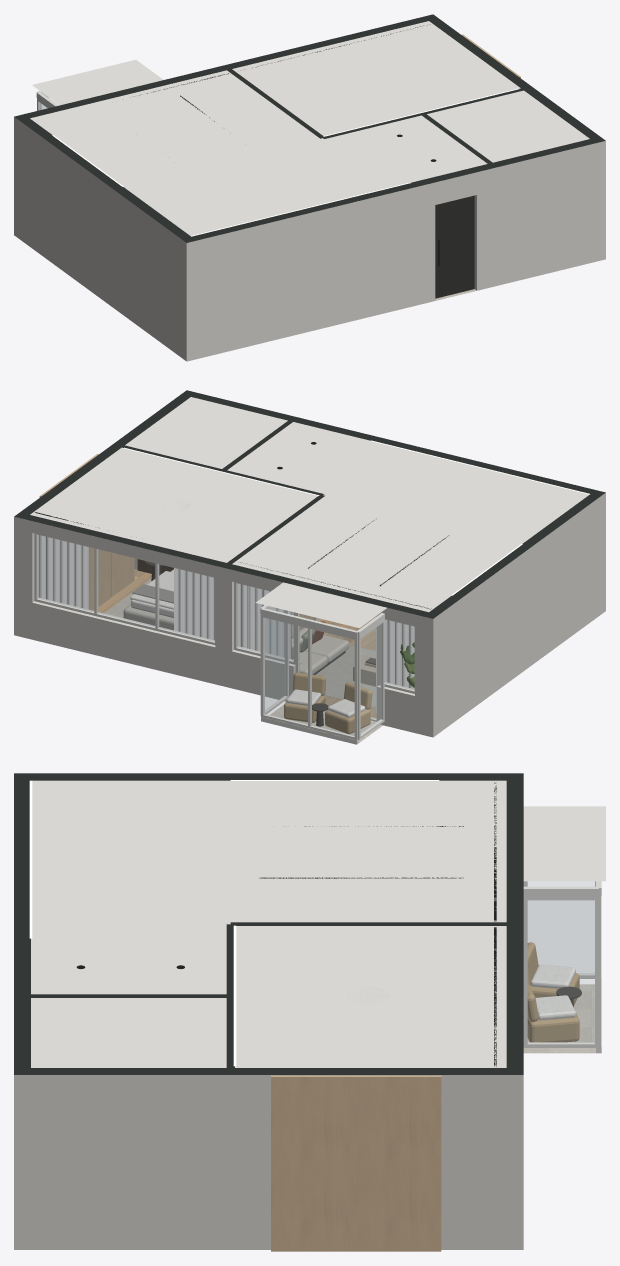
3 renders of one model, top to bottom at view 1: azimuth 30°, elevation 25°; view 2: azimuth 150°, elevation 25°; view 3: azimuth 270°, elevation 25°, orthographic. The views are drawn at different scales.
Visible parts, largest first — view 1: Interior, Ceiling, Caps, CeilingEmit; view 2: Ceiling, Interior, Glass, Caps, Curtains, CeilingEmit; view 3: Ceiling, Interior, Caps, Glass, CeilingEmit.
Boxes of the visible parts, x1=… form: Interior: x1=14, y1=34, x2=605, y2=361; Ceiling: x1=30, y1=21, x2=589, y2=235; Caps: x1=14, y1=14, x2=605, y2=242; CeilingEmit: x1=52, y1=88, x2=518, y2=236; Ceiling: x1=30, y1=397, x2=589, y2=627; Interior: x1=14, y1=454, x2=605, y2=744; Glass: x1=38, y1=535, x2=414, y2=735; Caps: x1=14, y1=390, x2=605, y2=618; Curtains: x1=38, y1=535, x2=414, y2=713; CeilingEmit: x1=124, y1=440, x2=589, y2=595; Ceiling: x1=31, y1=780, x2=605, y2=1067; Interior: x1=14, y1=881, x2=601, y2=1251; Caps: x1=14, y1=773, x2=523, y2=1074; Glass: x1=528, y1=881, x2=594, y2=1042; CeilingEmit: x1=29, y1=780, x2=439, y2=1066.
Size of the model in its own units: 10.11 by 2.73 by 8.34.
44 materials, 15 textured.
